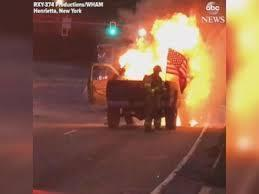fire: (119, 11, 209, 118)
